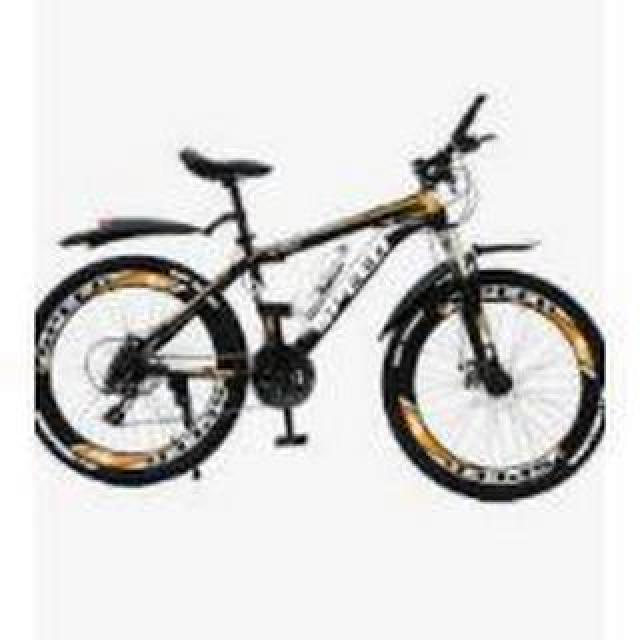Person: (25, 92, 611, 508)
